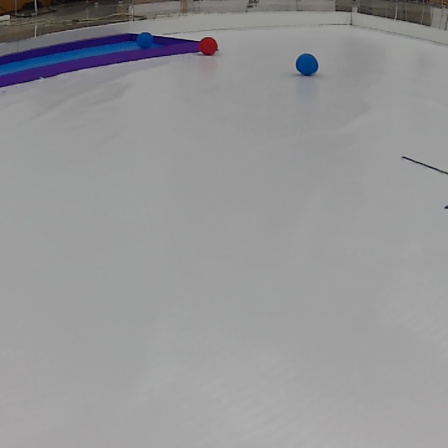blue: (294, 50, 320, 78), (135, 28, 157, 52)
blue_aim: (2, 30, 203, 88)
red: (199, 37, 221, 55)
